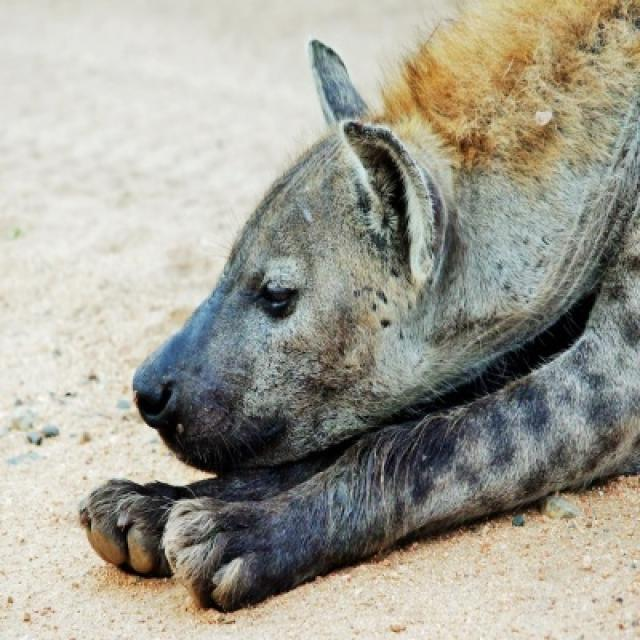hyena: (78, 0, 638, 616)
